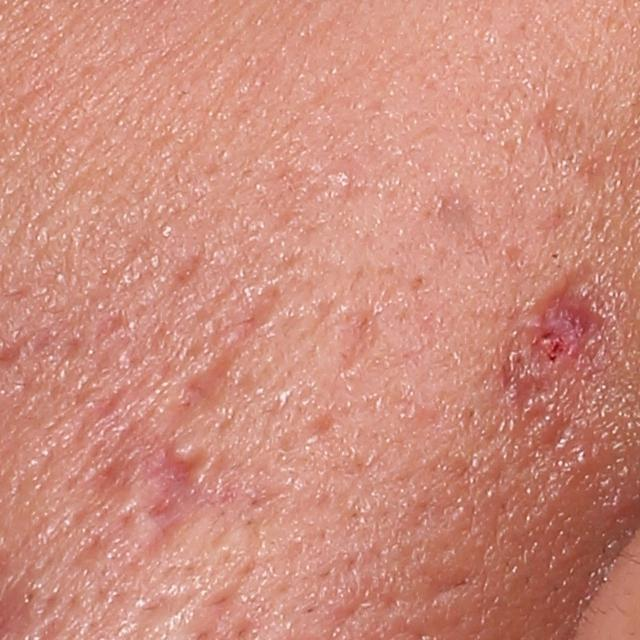atrophic_scar: (497, 252, 617, 420), (172, 284, 280, 417), (74, 429, 226, 516), (336, 302, 382, 374), (172, 240, 203, 294), (308, 410, 344, 447)
comedo: (76, 381, 127, 440), (550, 250, 563, 263)
